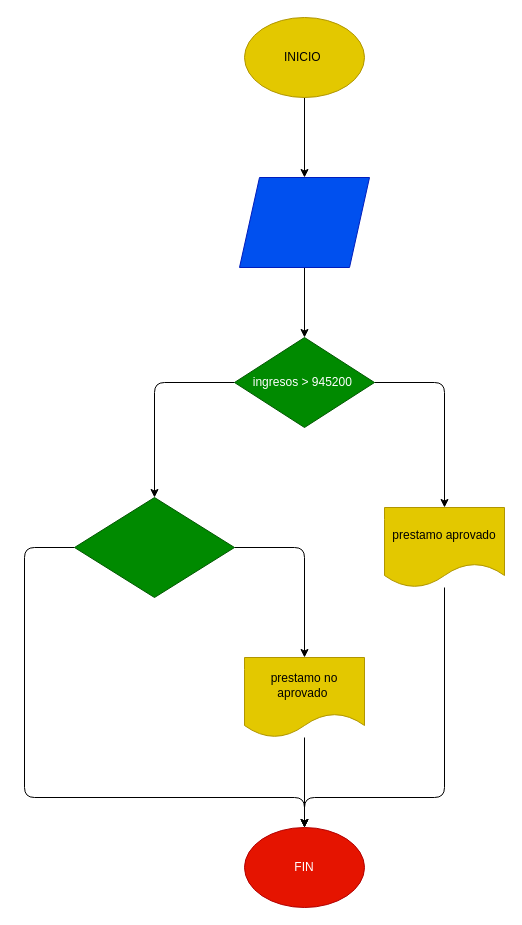
This 522x925 diagram has some shape labels left out. Each missing label, with the centre of its shape:
"ingreso < 945200" goes at pixel 154 547.
"nombre cedula deudas ingreso prestamo" goes at pixel 304 222.
